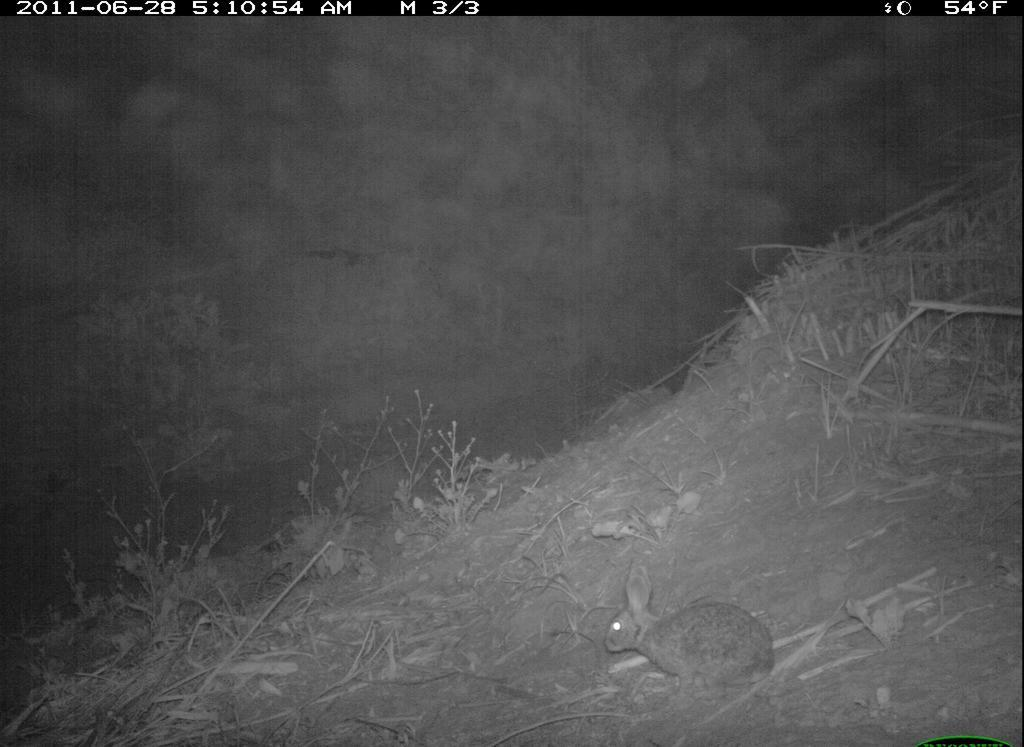rabbit: (601, 555, 786, 698)
